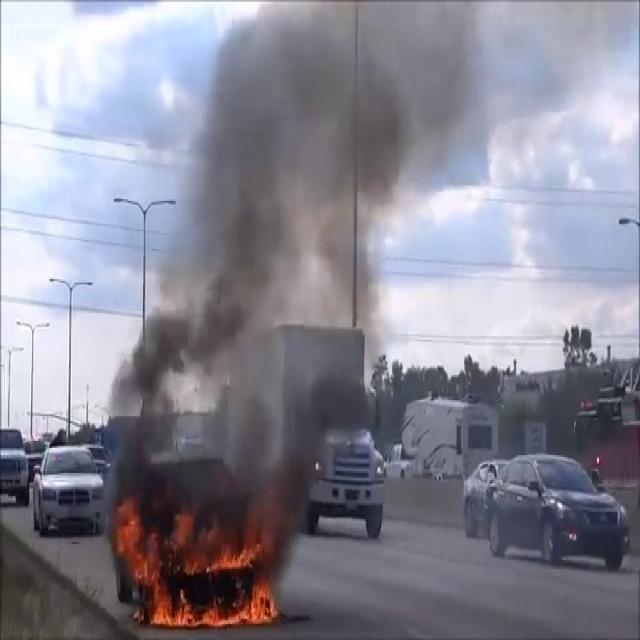Fire: (113, 501, 280, 634)
Smoke: (111, 1, 450, 507)
